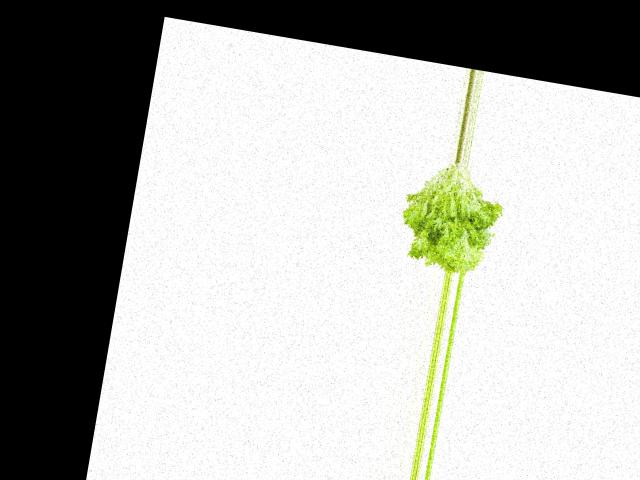lettuce: (389, 151, 510, 279)
